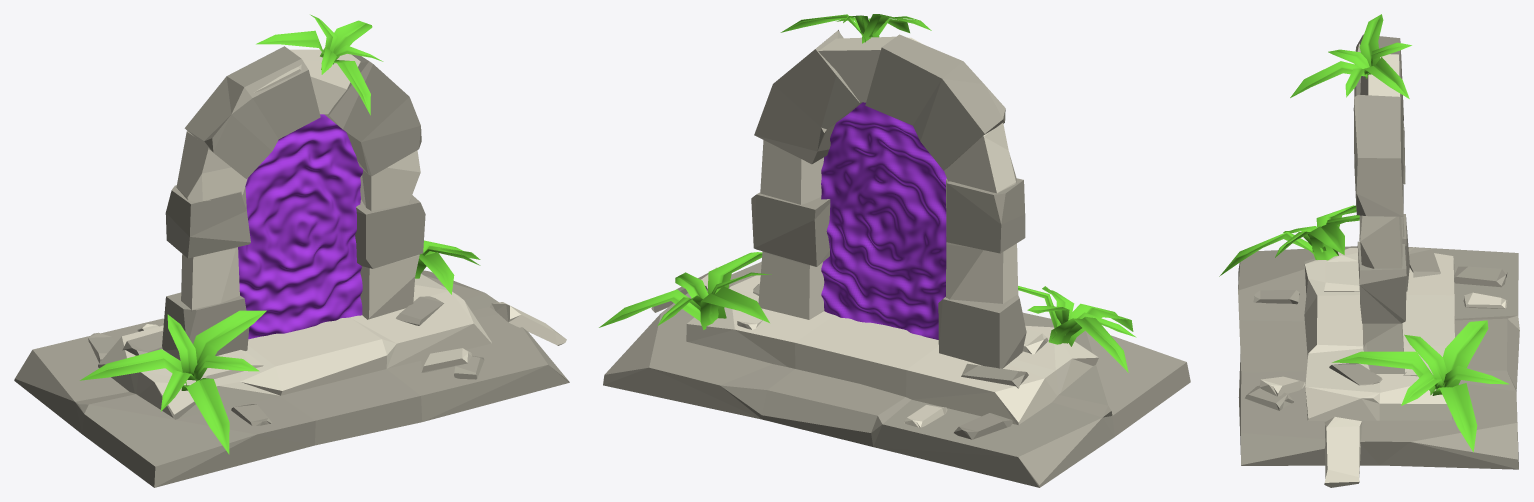
Rendered from Portal.fbx.
The picture shows the model from 3 angles, left to right: view 1: azimuth 30°, elevation 25°; view 2: azimuth 150°, elevation 25°; view 3: azimuth 270°, elevation 25°; orthographic projection. The views are drawn at different scales.
Parts seen in each view (by area): view 1: Portal; view 2: Portal; view 3: Portal.
Part boxes in pixels (left/top/right/bottom): Portal: left=14, top=14, right=569, bottom=487; Portal: left=599, top=14, right=1190, bottom=487; Portal: left=1219, top=14, right=1519, bottom=487.
Bounding box in the file's own units: 714 × 520 × 410.
